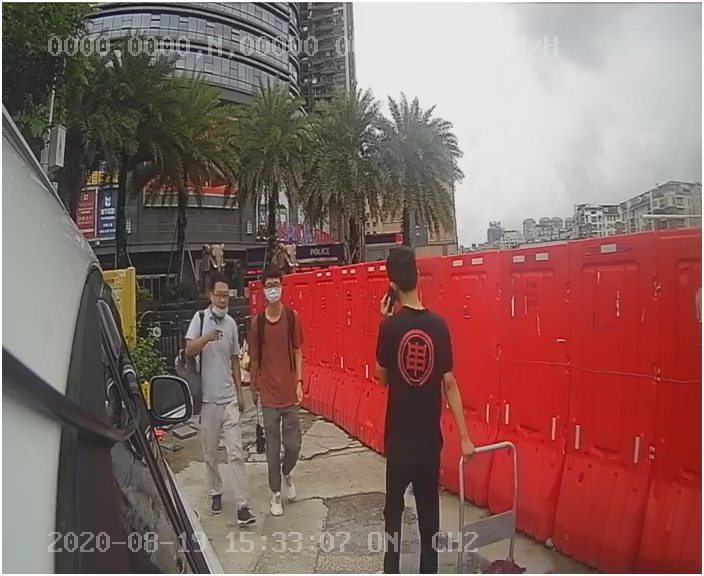person: (357, 247, 475, 530), (241, 267, 340, 517), (181, 279, 266, 530)
